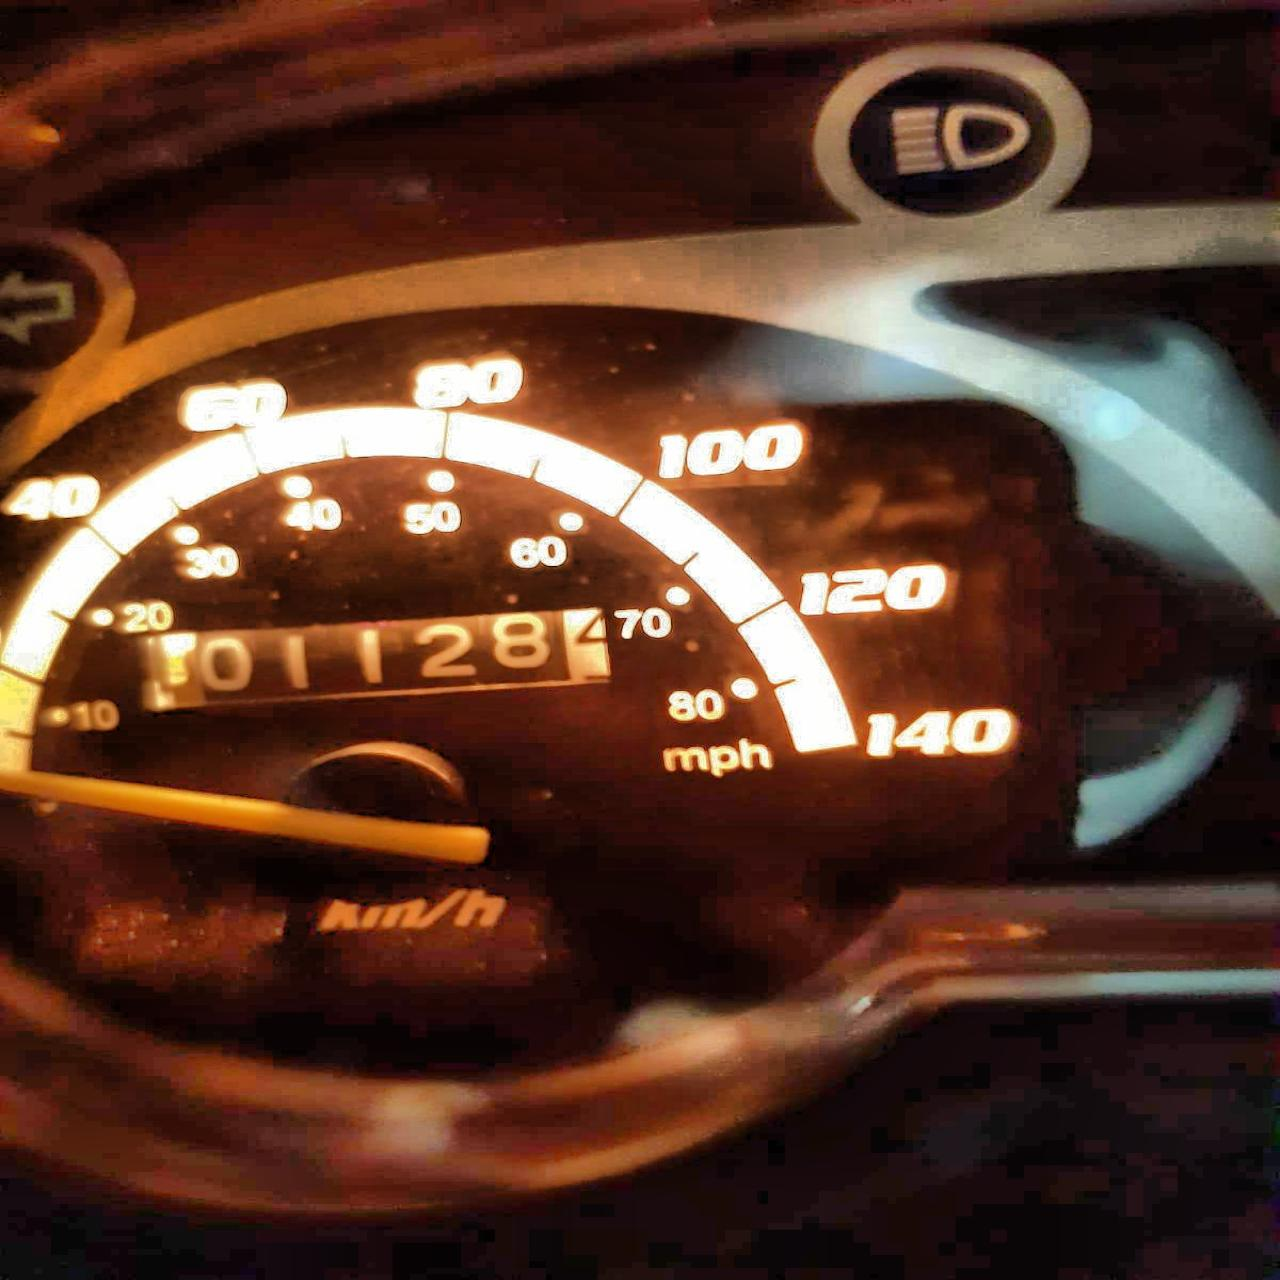0: (198, 632, 253, 694), (148, 600, 172, 629)
1: (342, 625, 399, 686), (268, 629, 319, 690)
2: (411, 619, 478, 676), (130, 602, 148, 633)
4: (565, 600, 613, 681)
8: (484, 612, 559, 675)
odometer: (130, 601, 617, 716)
